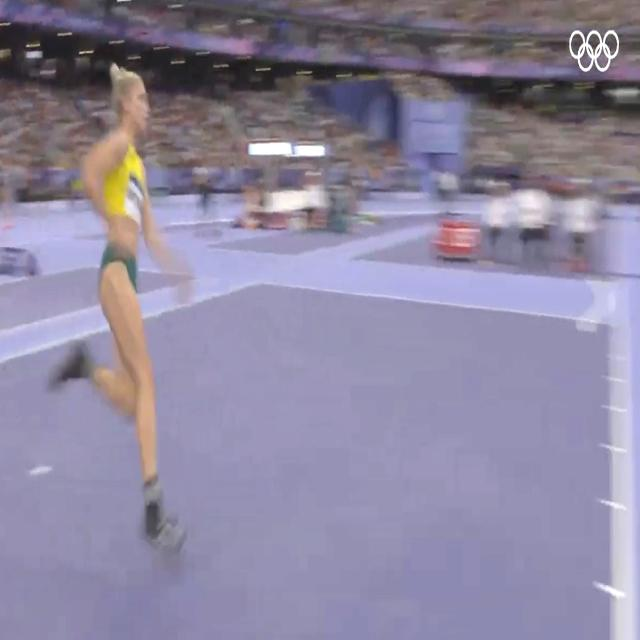run: (44, 62, 190, 546)
